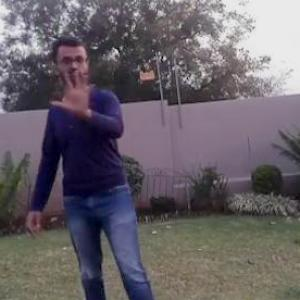follow_hand: (52, 69, 100, 115)
